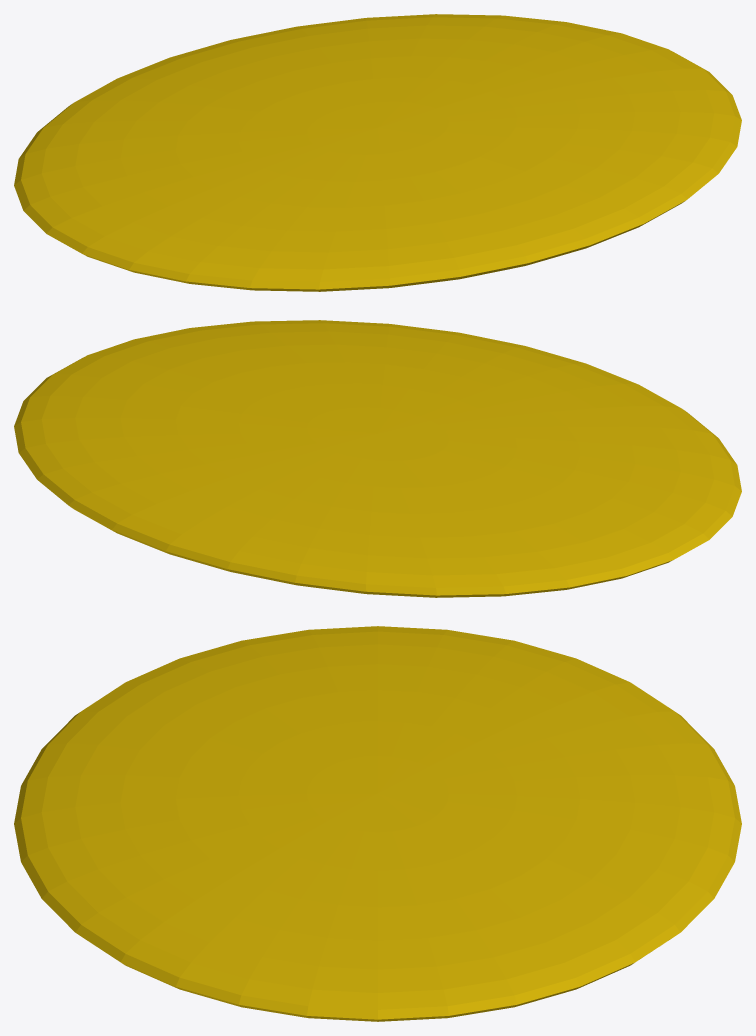
Rendered from sol7.obj.
The picture shows the model from 3 angles, top to bottom: view 1: azimuth 30°, elevation 25°; view 2: azimuth 150°, elevation 25°; view 3: azimuth 270°, elevation 25°; orthographic projection. The views are drawn at different scales.
Parts seen in each view (by area): view 1: Sphere; view 2: Sphere; view 3: Sphere.
Part boxes in pixels (x1,y1,x2,y2): Sphere: (14,14,741,291); Sphere: (14,320,741,597); Sphere: (14,626,741,1021).
Bounding box in the file's own units: 0.8943 × 0.0649 × 0.703.
